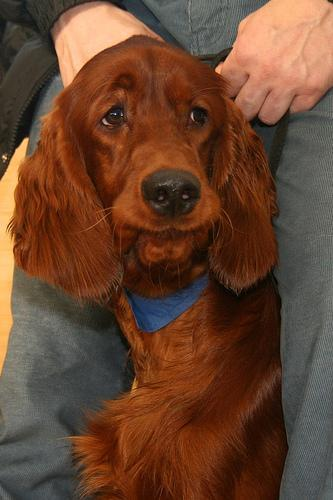Irish_setter: (7, 27, 295, 498)
